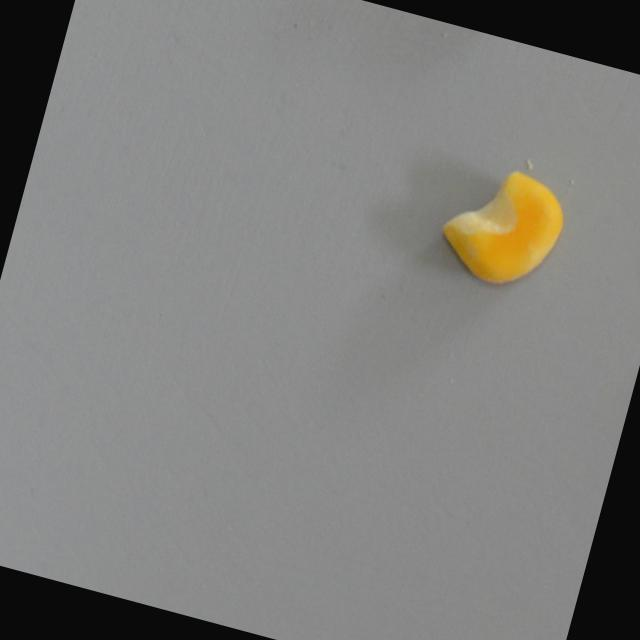no_canjicado: (428, 154, 574, 298)
